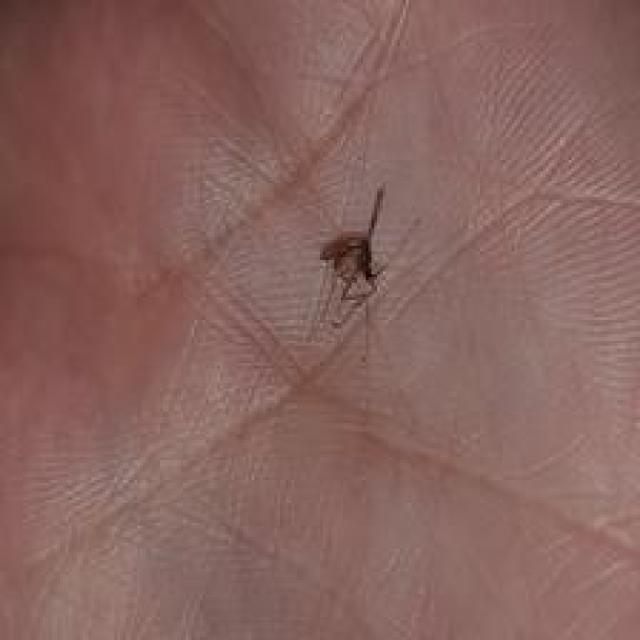Culex: (306, 182, 391, 362)
